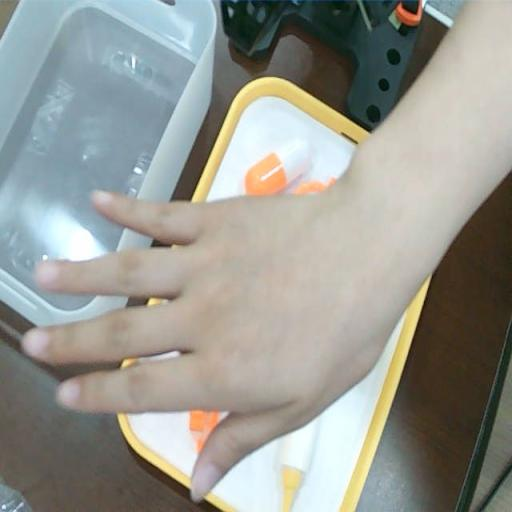hospital: (20, 146, 392, 501)
